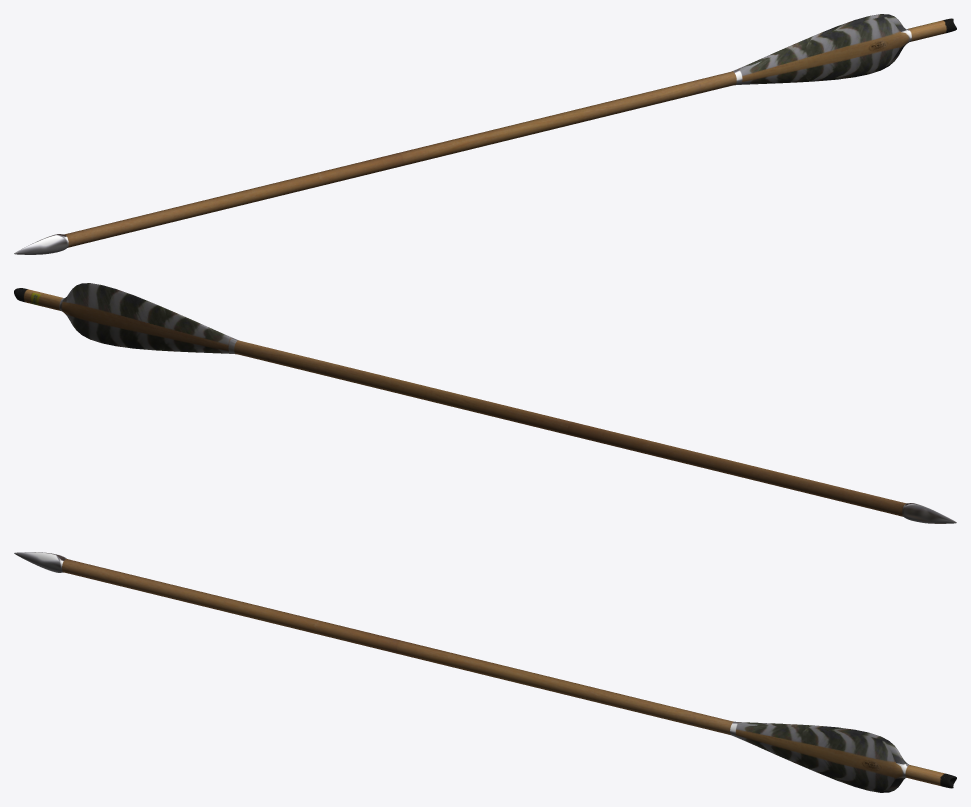
The model's file is flecha.fbx.
The picture shows the model from 3 angles, top to bottom: view 1: azimuth 30°, elevation 25°; view 2: azimuth 150°, elevation 25°; view 3: azimuth 330°, elevation 25°; orthographic projection.
Parts seen in each view (by area): view 1: 10490_arrow_v1; view 2: 10490_arrow_v1; view 3: 10490_arrow_v1.
Boxes of the visible parts, left/top/right/bottom form: 10490_arrow_v1: left=14, top=14, right=956, bottom=254; 10490_arrow_v1: left=14, top=283, right=956, bottom=523; 10490_arrow_v1: left=14, top=552, right=956, bottom=792.
Size of the model in its own units: 79.44 by 4.71 by 0.9813.
1 material, 1 textured.
